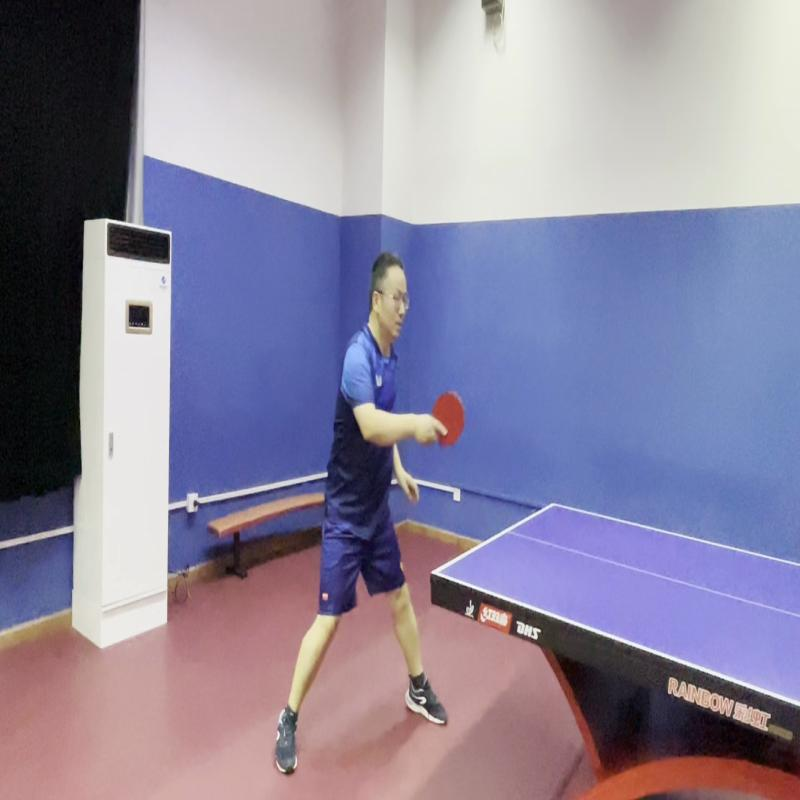bats: (430, 391, 469, 454)
